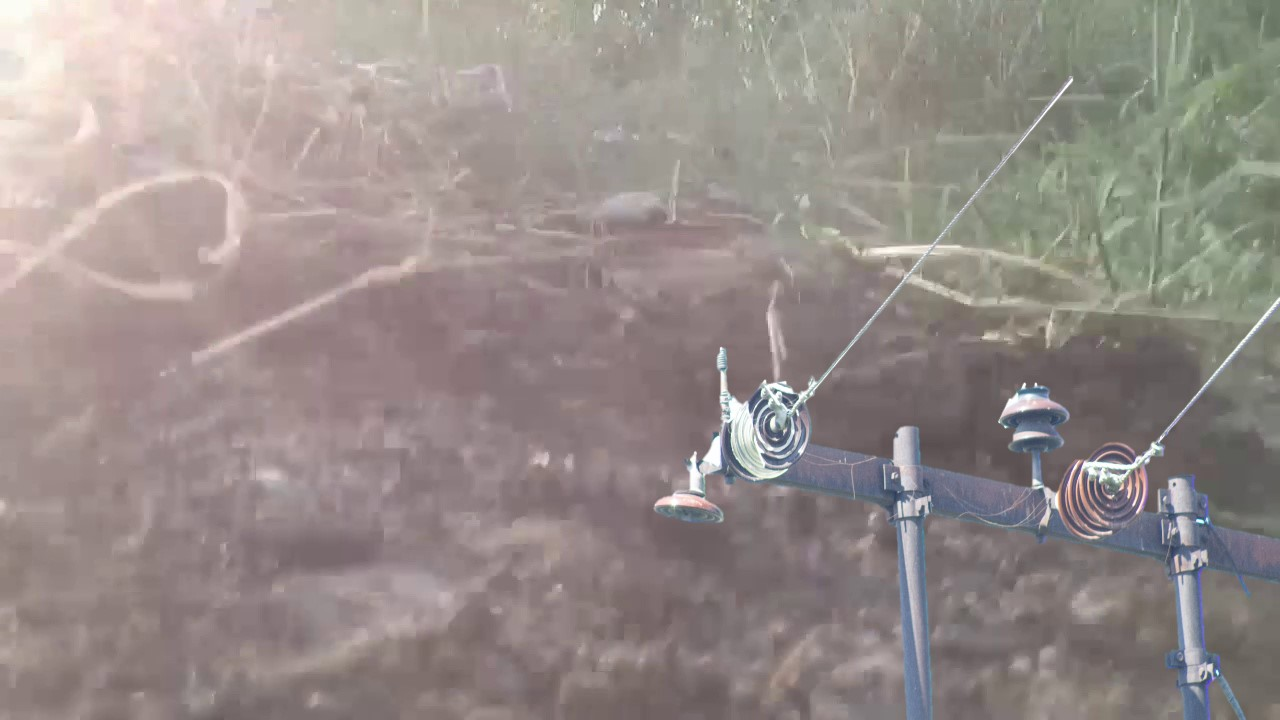defect_disc: (743, 378, 815, 477)
insulator_disc: (1078, 434, 1149, 531), (647, 482, 728, 527)
